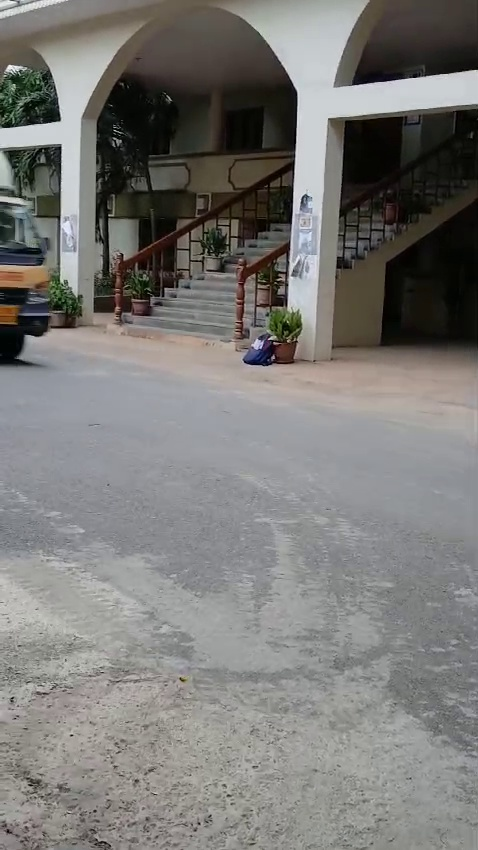bag: (237, 330, 281, 368)
